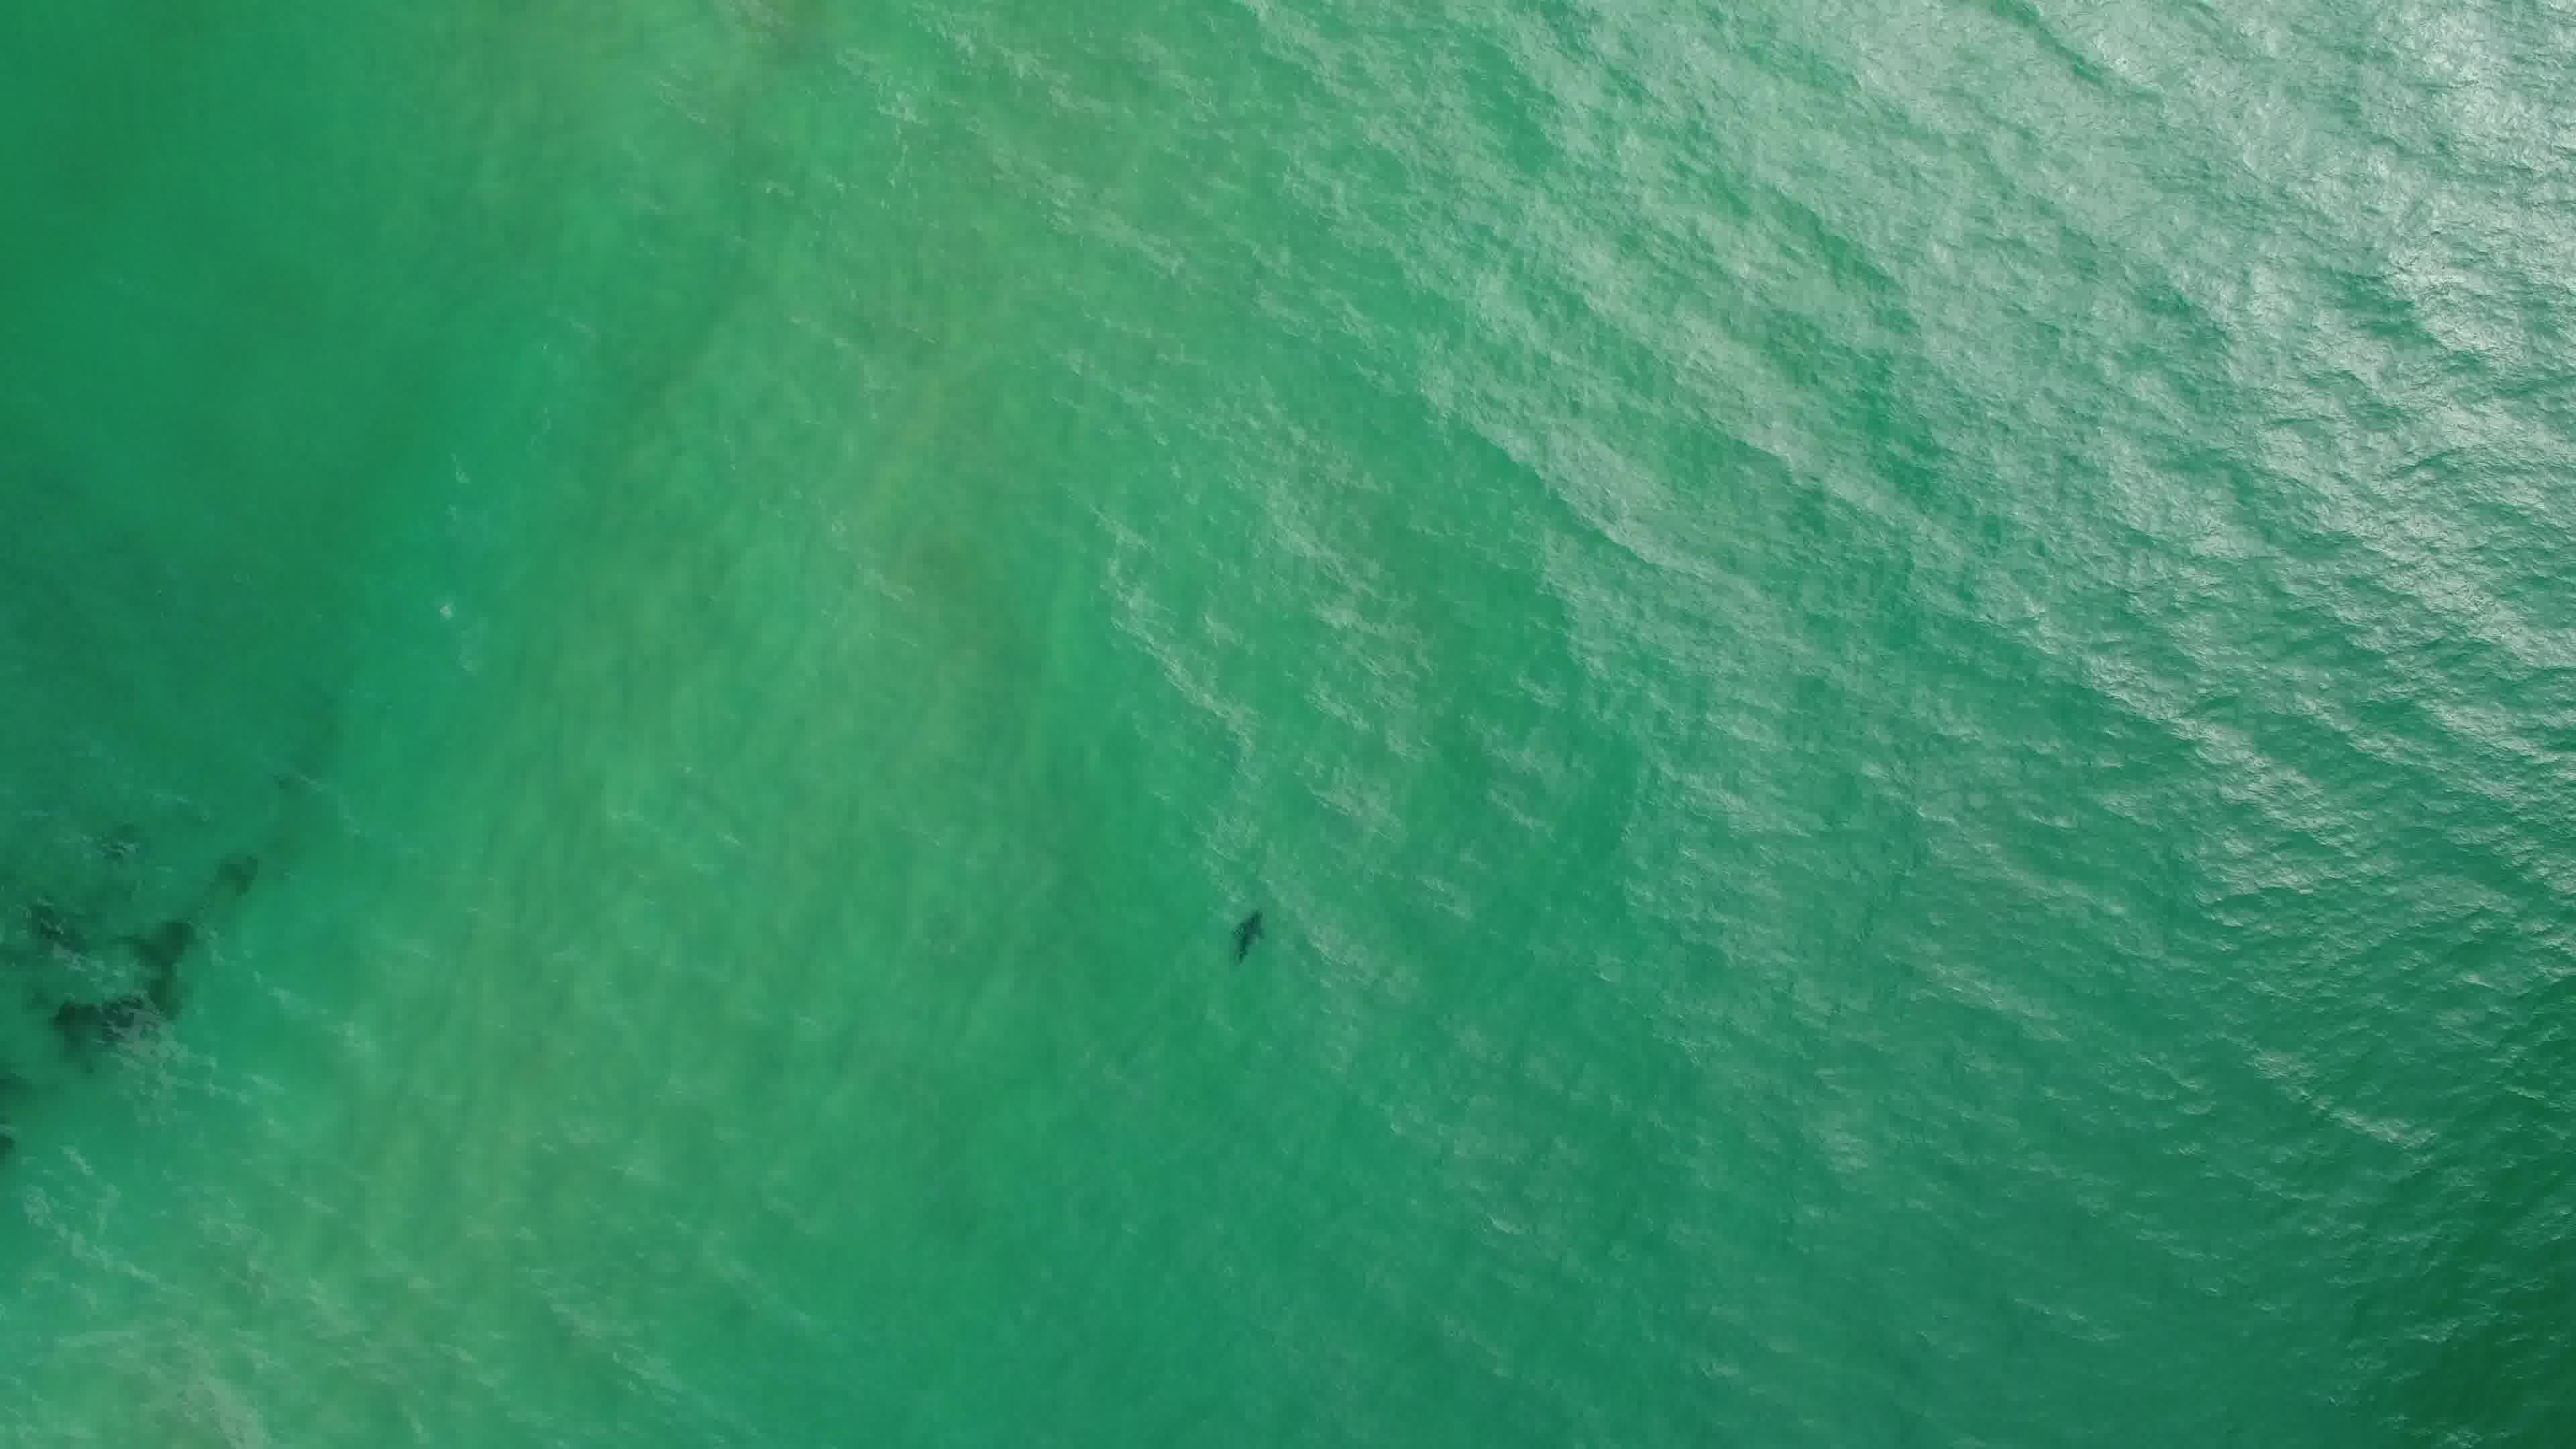shark: (1226, 902, 1276, 971)
